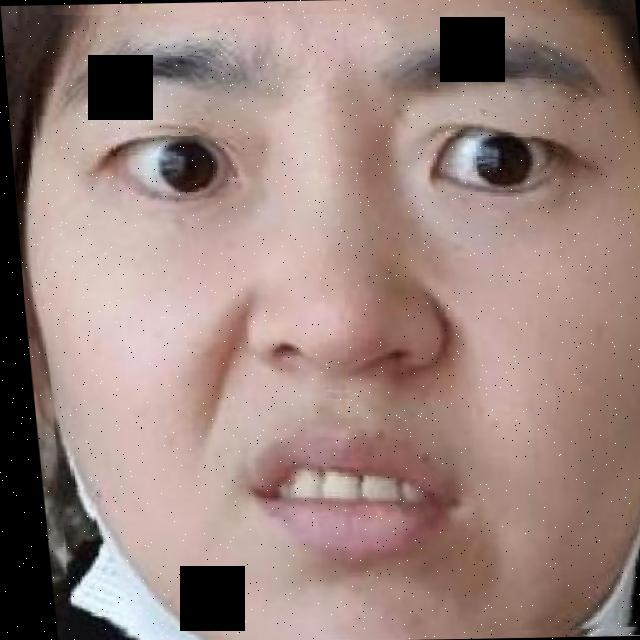anger: (12, 8, 640, 640)
